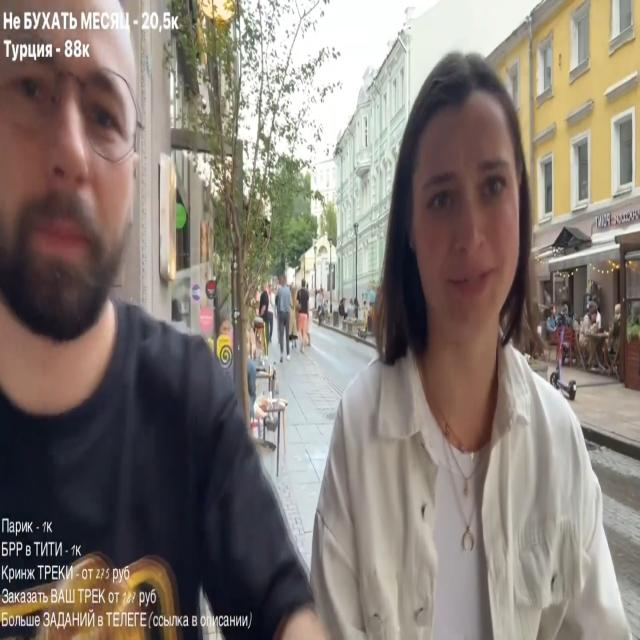Person: (302, 46, 629, 640), (0, 13, 306, 632), (577, 298, 603, 370), (274, 279, 296, 360), (295, 282, 312, 347)
